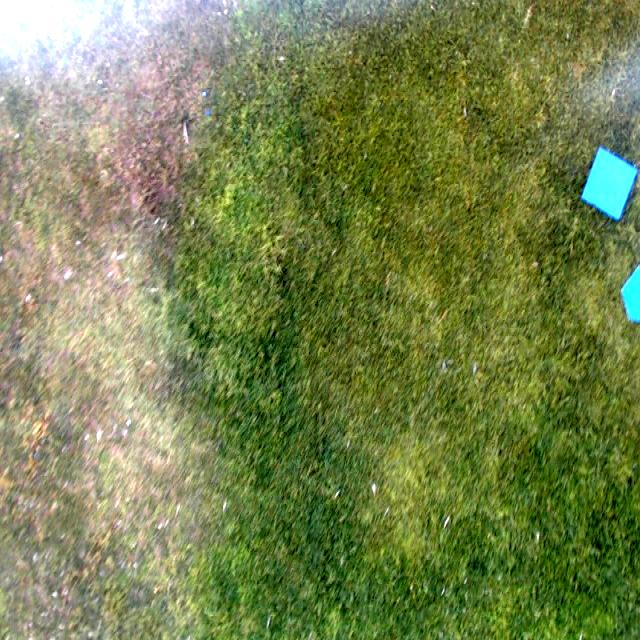blue_square: (580, 145, 638, 222)
